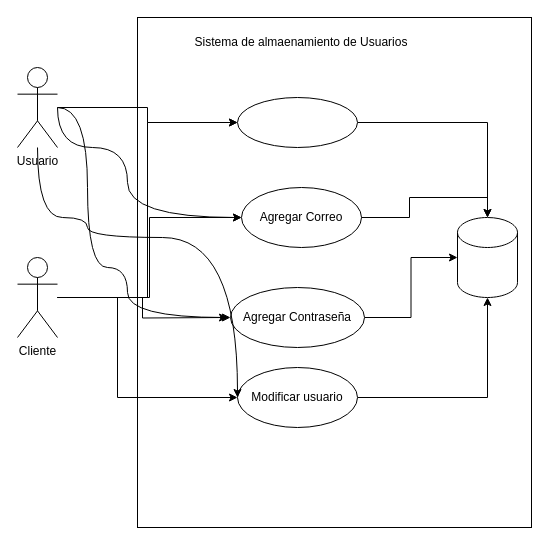
The diagram is 549 pixels wide and 545 high, and some of its shapes have lost their labels. The shapes that lost their labels are listed below. From the top down, each one's centre as x and y in pixels, then its label:
(297,122): Agregar Nombre
(487,257): BBDD
